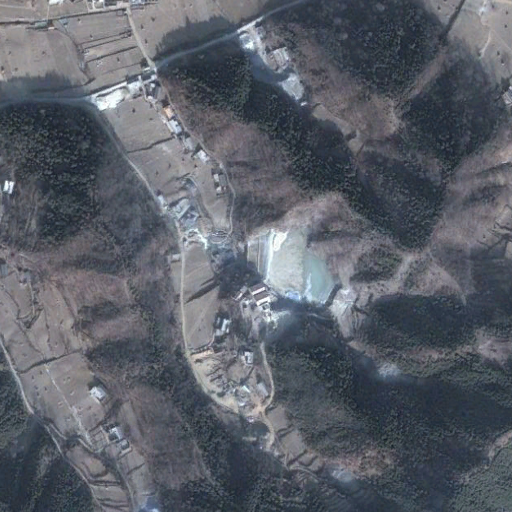tp: (243, 224, 340, 307)
